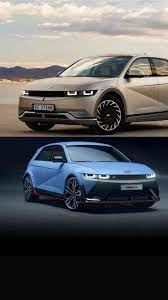Honda Ioniq: (7, 41, 168, 134), (20, 138, 159, 221)
